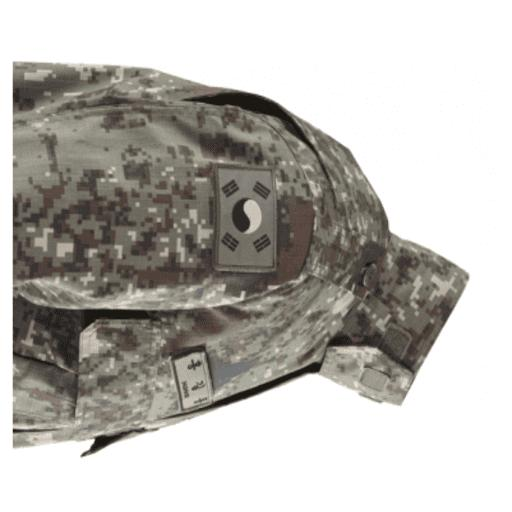korea army: (11, 60, 469, 456), (13, 64, 463, 454)
